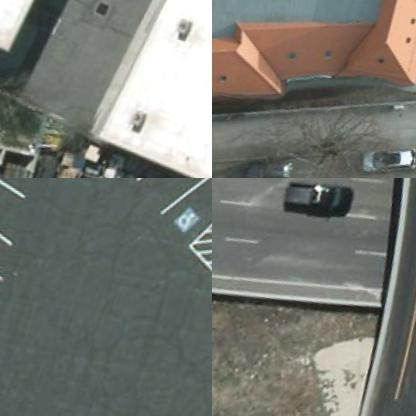car: (282, 178, 356, 220), (366, 143, 415, 177), (245, 159, 299, 177)
